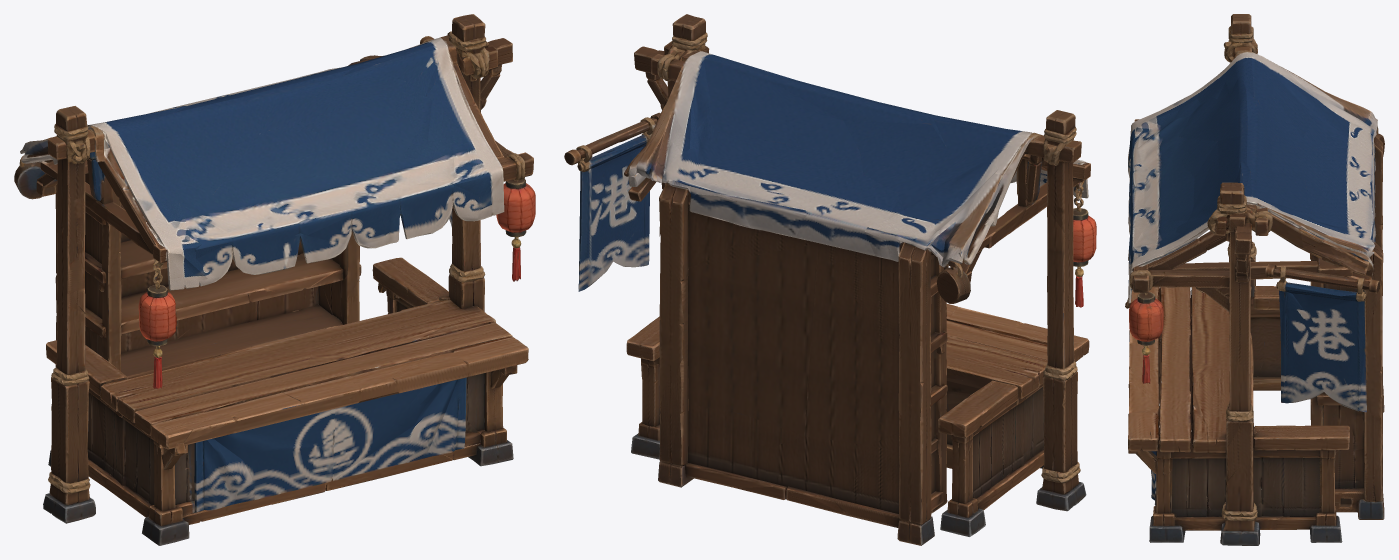
File: stall-market.glb
3 renders of one model, left to right at view 1: azimuth 30°, elevation 25°; view 2: azimuth 150°, elevation 25°; view 3: azimuth 270°, elevation 25°, orthographic. The views are drawn at different scales.
Bounding box in the file's own units: 1.9 × 1.61 × 1.06.
1 material, 1 textured.
